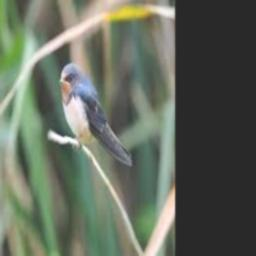Swallow: (60, 63, 134, 166)
